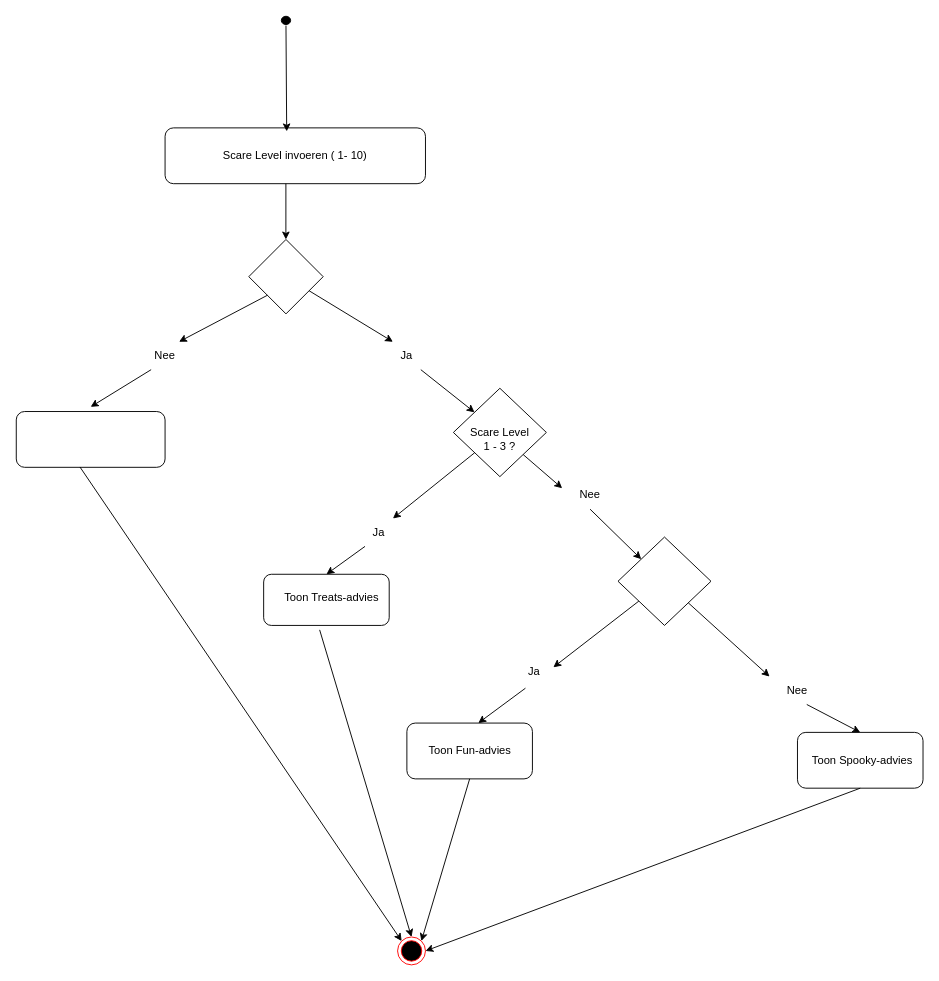
This 939x981 diagram has some shape labels left out. The centre of each missing label's shape, as x and y in pixels:
Invoer geldig?: point 285,276
Scare Level 4 - 7 ?: point 664,580
Toon foutmelding: point 90,439
